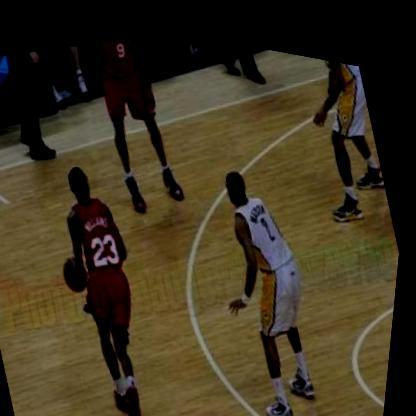basketball: (62, 246, 100, 291)
